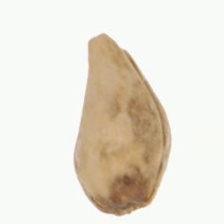L1: (84, 31, 130, 65), (94, 194, 153, 216)
L2: (71, 33, 172, 216)
